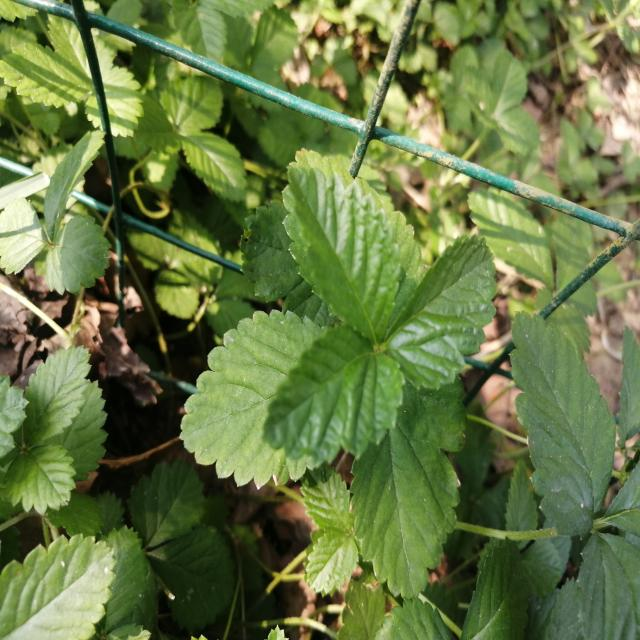Mock_strawberry: (276, 170, 495, 470)
